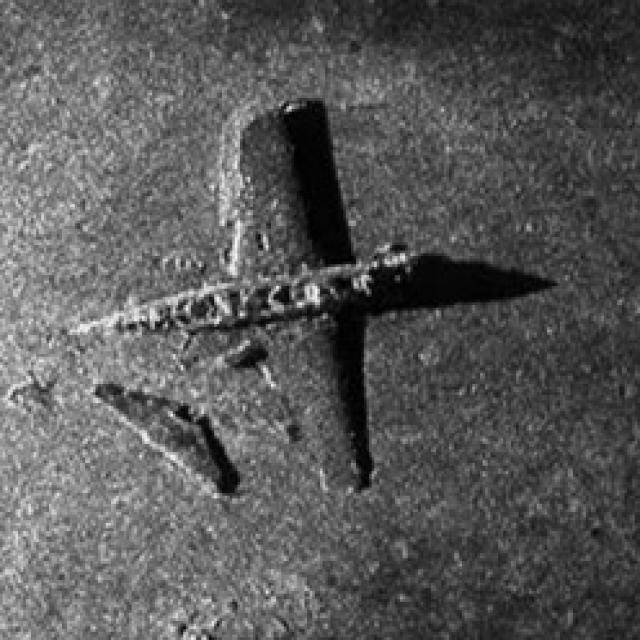plane: (77, 82, 470, 496)
